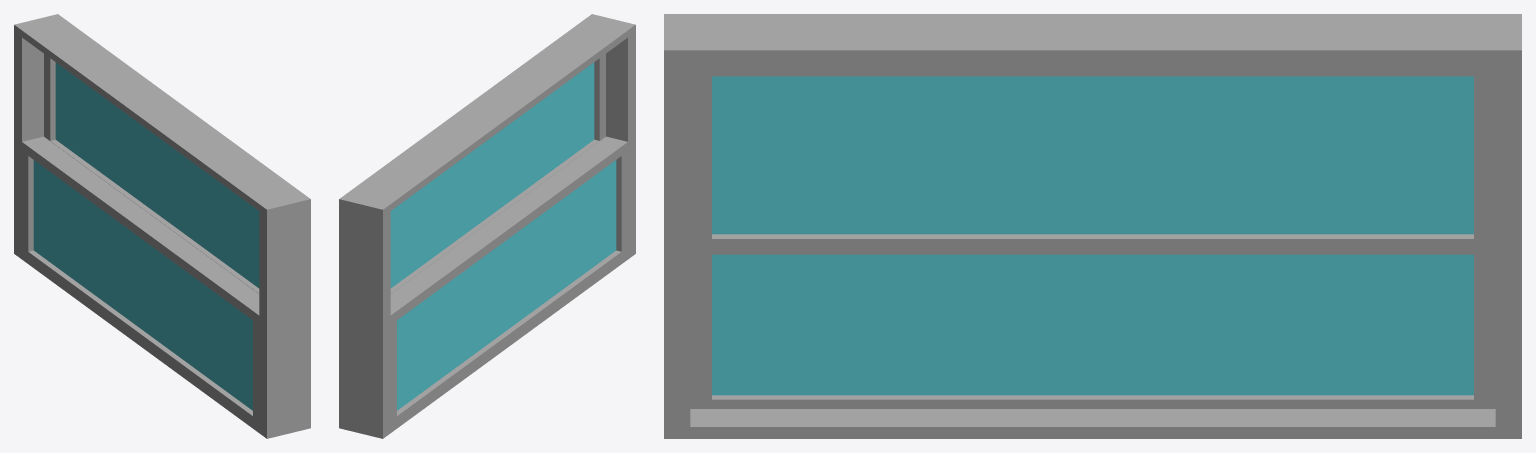
The model's file is Window.glb.
The picture shows the model from 3 angles, left to right: view 1: azimuth 30°, elevation 25°; view 2: azimuth 150°, elevation 25°; view 3: azimuth 270°, elevation 25°; orthographic projection. The views are drawn at different scales.
Parts seen in each view (by area): view 1: WindowDowner, WindowFrame, WindowUpper; view 2: WindowDowner, WindowFrame, WindowUpper; view 3: WindowUpper, WindowDowner, WindowFrame.
Part boxes in pixels (x1,y1,x2,y2): WindowDowner: (21, 136, 259, 426); WindowFrame: (14, 14, 310, 438); WindowUpper: (44, 54, 259, 293); WindowDowner: (390, 136, 628, 426); WindowFrame: (339, 14, 635, 438); WindowUpper: (390, 54, 605, 293); WindowUpper: (690, 60, 1495, 254); WindowDowner: (690, 254, 1495, 408); WindowFrame: (664, 14, 1521, 438).
Size of the model in its own units: 0.4 by 2 by 4.
